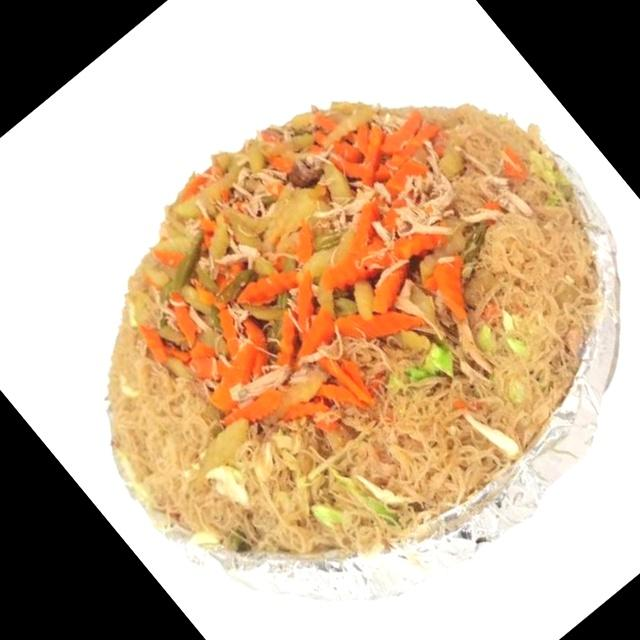pancit bihon: (119, 102, 589, 547)
